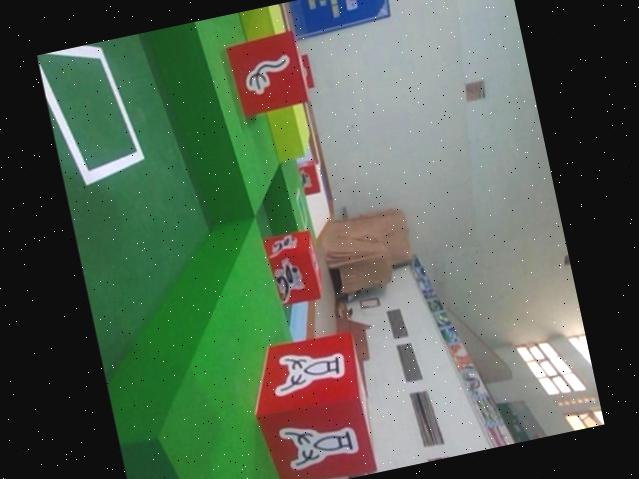R1: (261, 227, 324, 309)
R2 Real: (240, 327, 376, 479), (220, 30, 306, 116)
